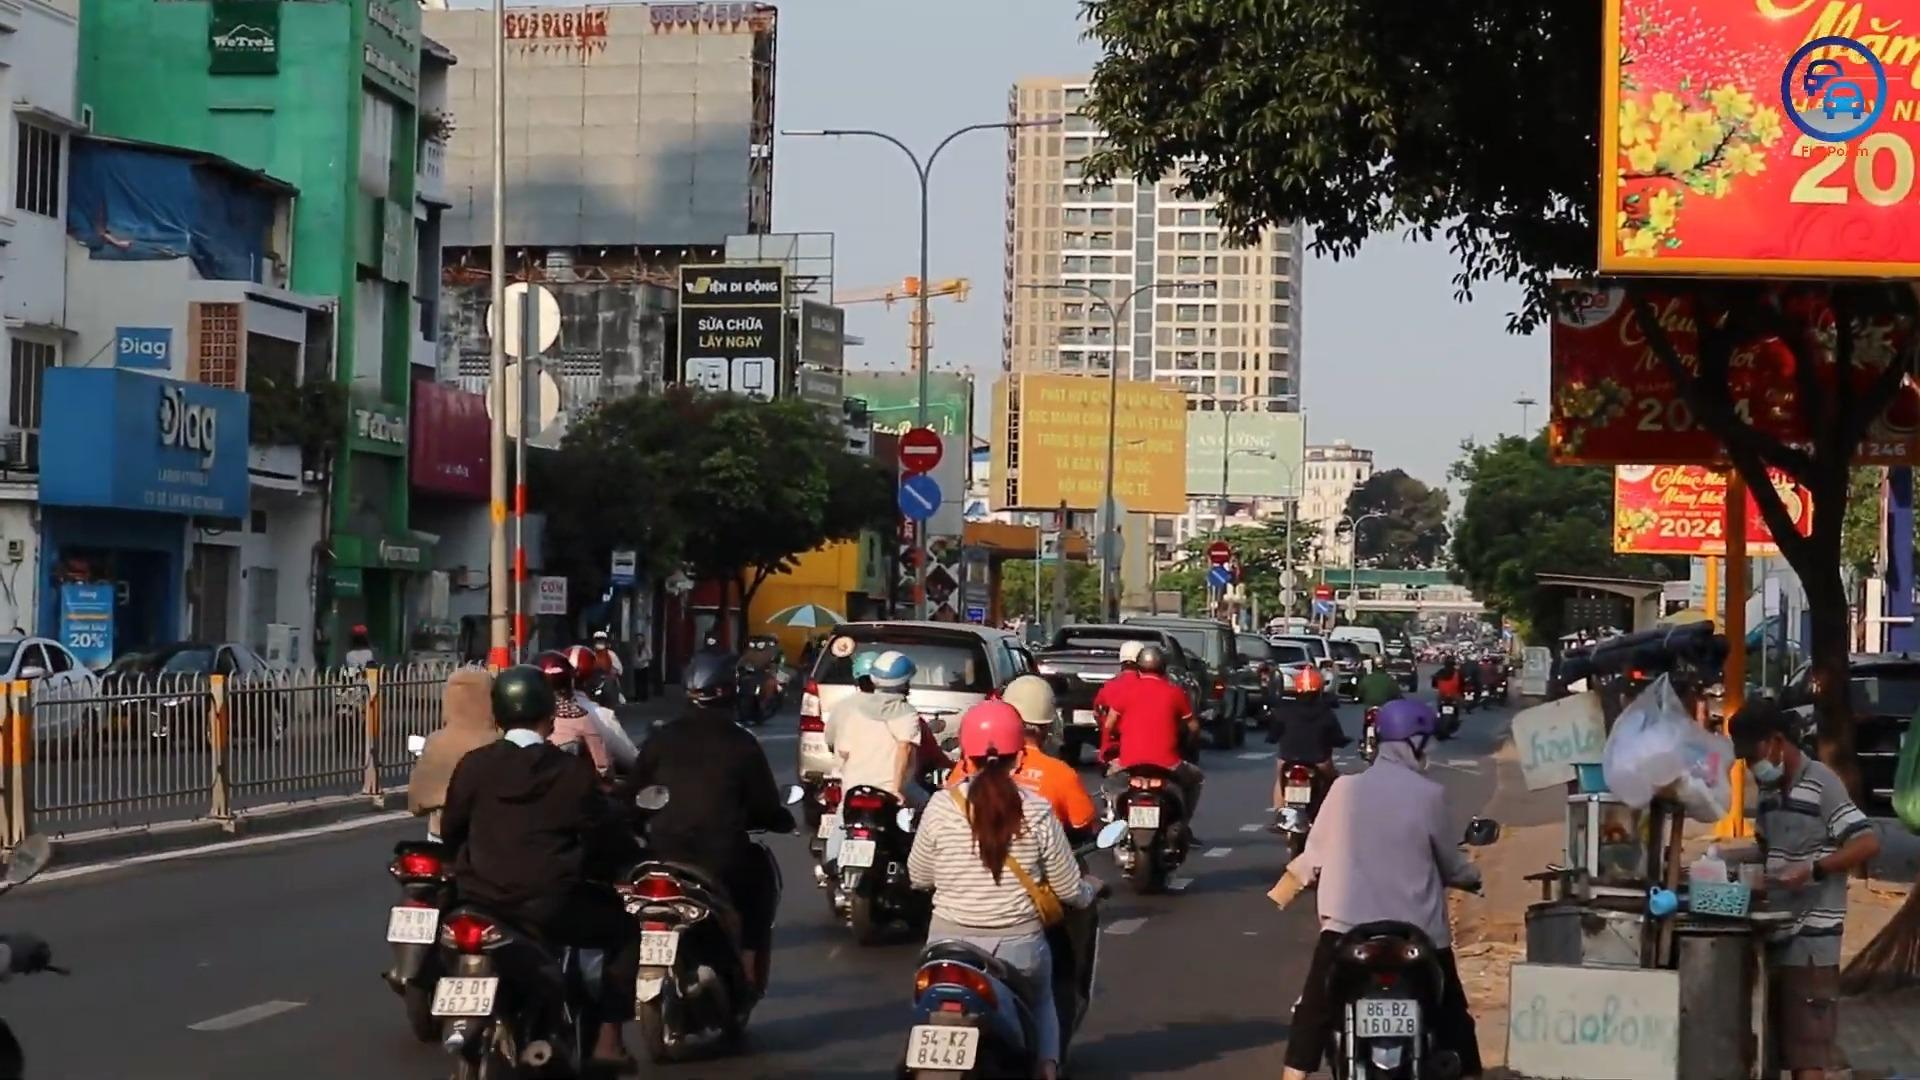bien_so: (904, 1023, 982, 1071), (430, 973, 501, 1019), (1354, 997, 1419, 1038), (384, 904, 440, 947), (637, 929, 682, 966), (837, 839, 876, 868), (1127, 804, 1161, 829), (1283, 785, 1312, 804)
